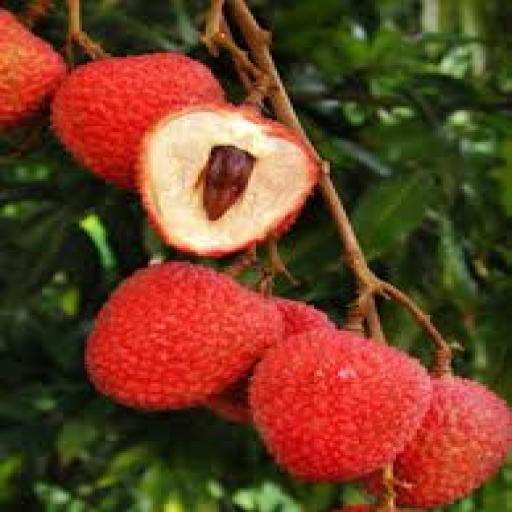lychee: (85, 262, 282, 409), (138, 105, 319, 255), (251, 329, 430, 480), (53, 52, 224, 189), (394, 377, 511, 508), (0, 10, 65, 129), (272, 298, 335, 336), (206, 373, 250, 423), (333, 505, 374, 511)
